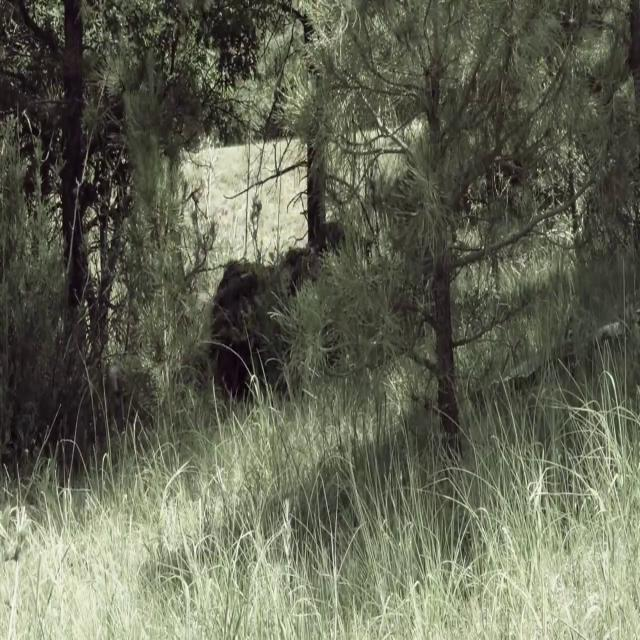Camouflage: (203, 221, 378, 413)
